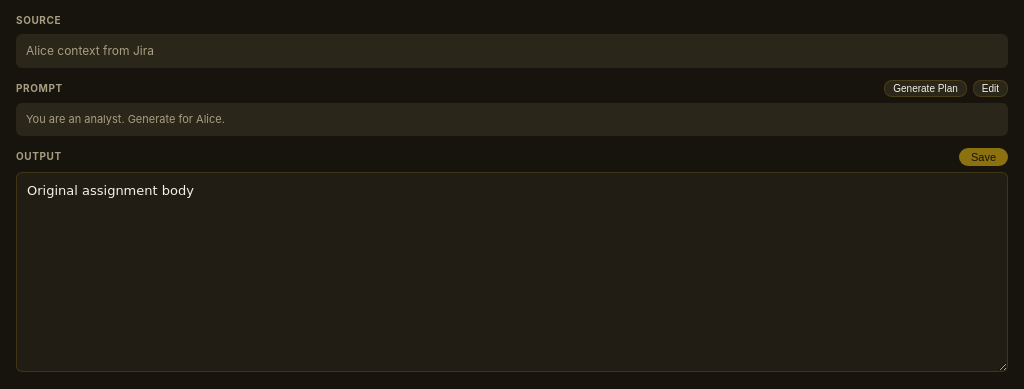
it: PersonAssignmentDetail › Save button becomes enabled after editing
Replace the text in the text box labelled "Output" with "New content": (512,272) [16,172,1008,372]
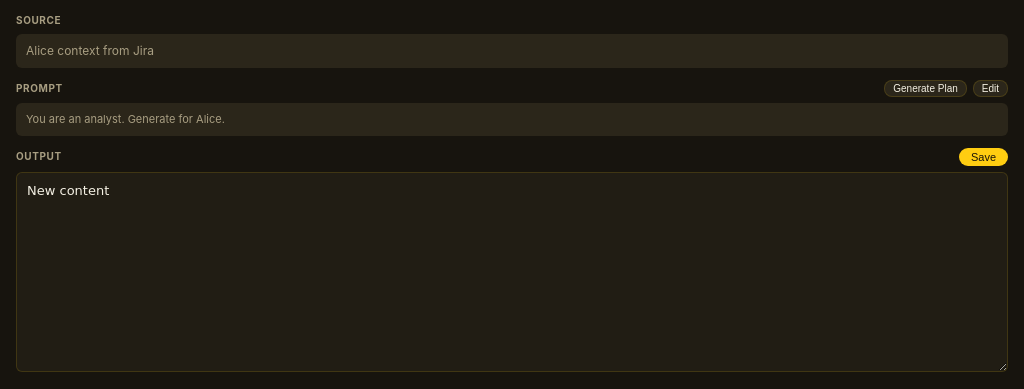
Check: the button "Save" is enabled, box [959,148,1008,166]
